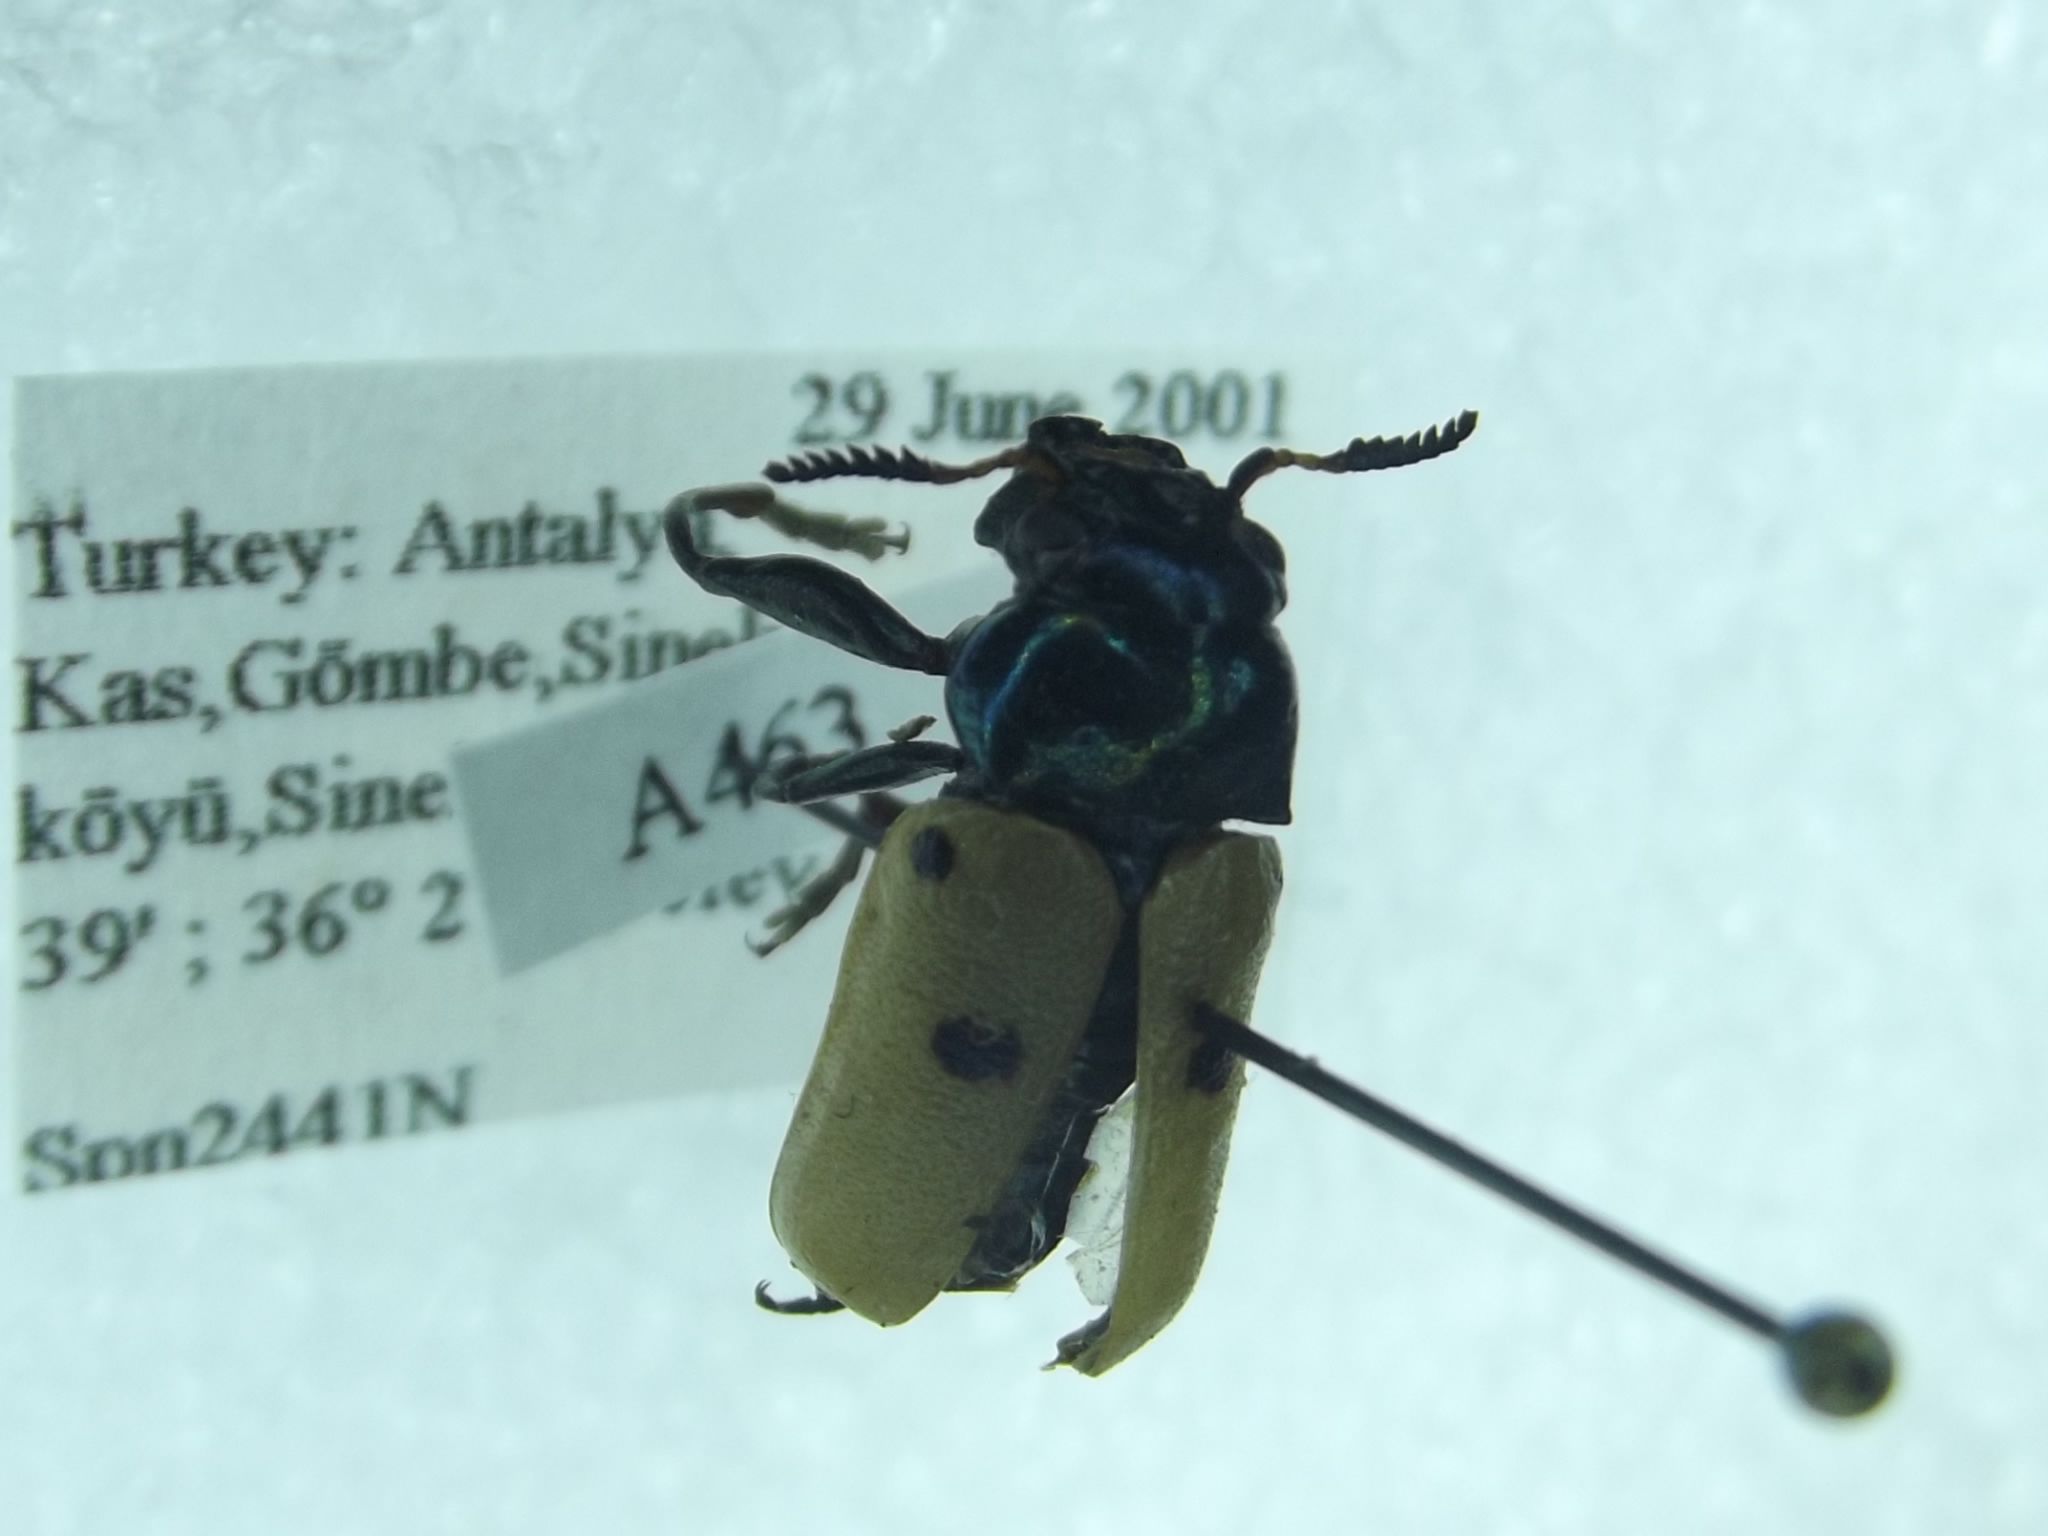Labidostomis_maculipennis: (650, 382, 1514, 1404)
